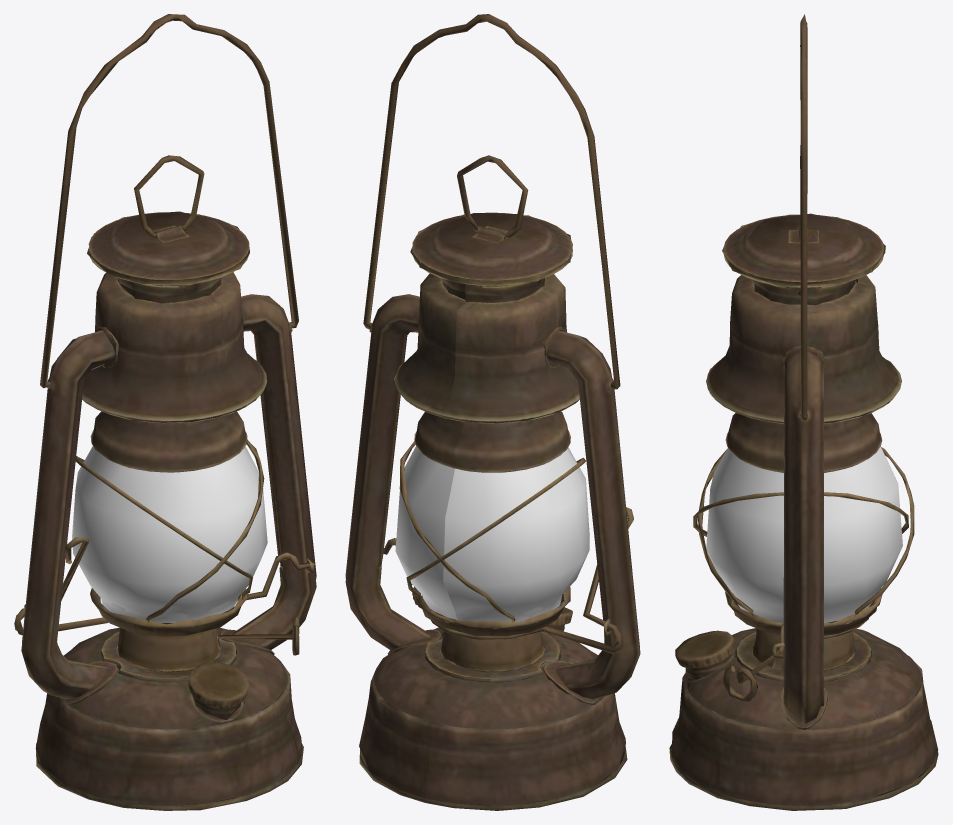
File: lantern.glb
3 views of the same model, side by side, from view 1: azimuth 30°, elevation 25°; view 2: azimuth 150°, elevation 25°; view 3: azimuth 270°, elevation 25° (orthographic).
Visible parts, largest first — view 1: Lantern, Lantern_glass; view 2: Lantern, Lantern_glass; view 3: Lantern, Lantern_glass.
Boxes of the visible parts, x1=… form: Lantern: x1=14, y1=14, x2=316, y2=810; Lantern_glass: x1=72, y1=446, x2=267, y2=622; Lantern: x1=345, y1=14, x2=640, y2=810; Lantern_glass: x1=395, y1=446, x2=589, y2=621; Lantern: x1=669, y1=14, x2=938, y2=810; Lantern_glass: x1=706, y1=446, x2=902, y2=622.
Size of the model in its own units: 0.1083 by 0.26 by 0.086.
2 materials, 1 textured.
